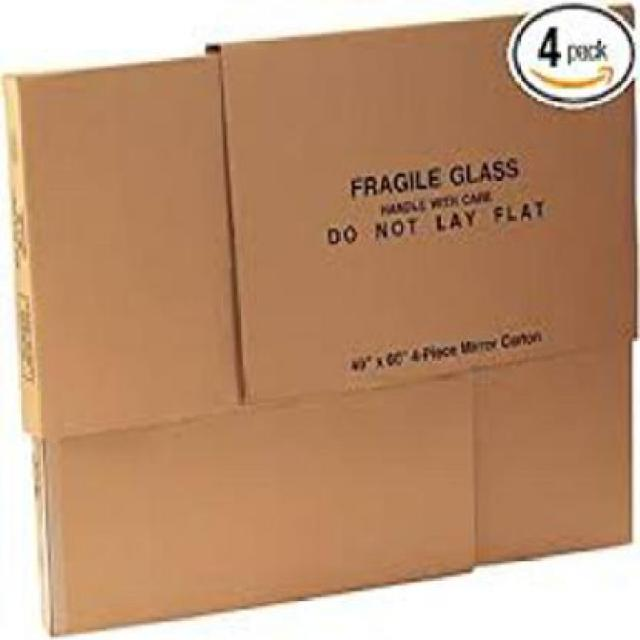normal: (1, 58, 257, 440)
